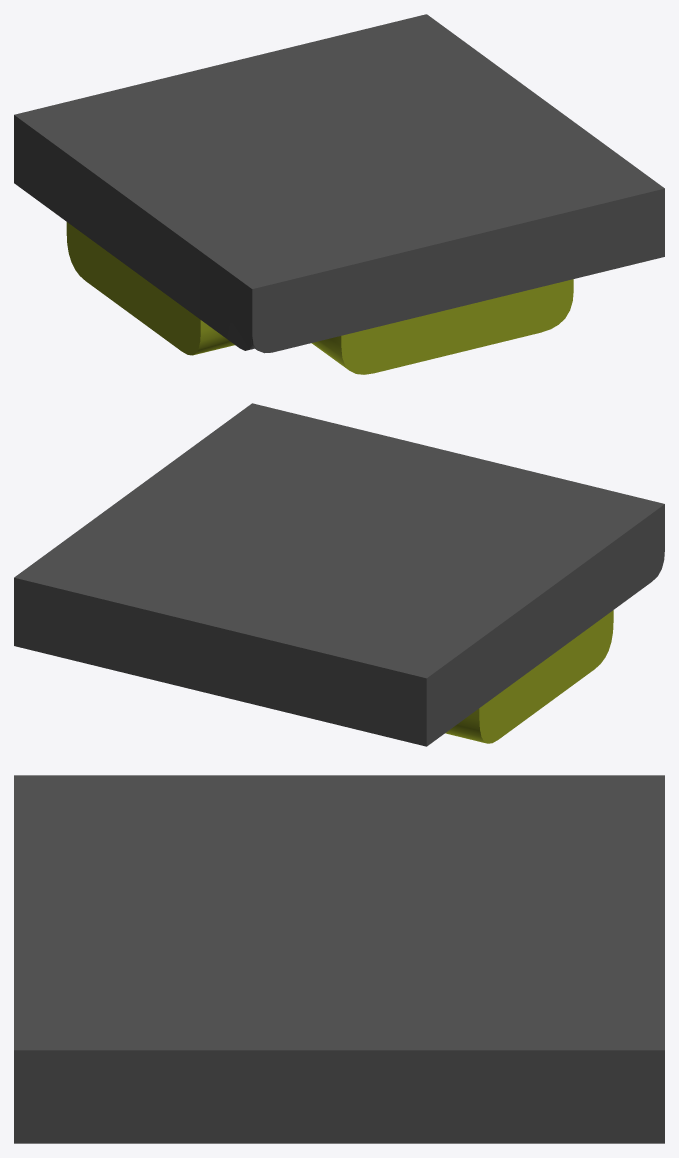
The model's file is TechoLucesEsquina.fbx.
3 renders of one model, top to bottom at view 1: azimuth 30°, elevation 25°; view 2: azimuth 150°, elevation 25°; view 3: azimuth 270°, elevation 25°, orthographic. The views are drawn at different scales.
Parts seen in each view (by area): view 1: TechoEsquina; view 2: TechoEsquina; view 3: TechoEsquina.
Part boxes in pixels (x1,y1,x2,y2): TechoEsquina: (14,14,664,374); TechoEsquina: (14,403,664,746); TechoEsquina: (14,775,664,1143).
Bounding box in the file's own units: 1.9 × 0.5 × 1.9.
